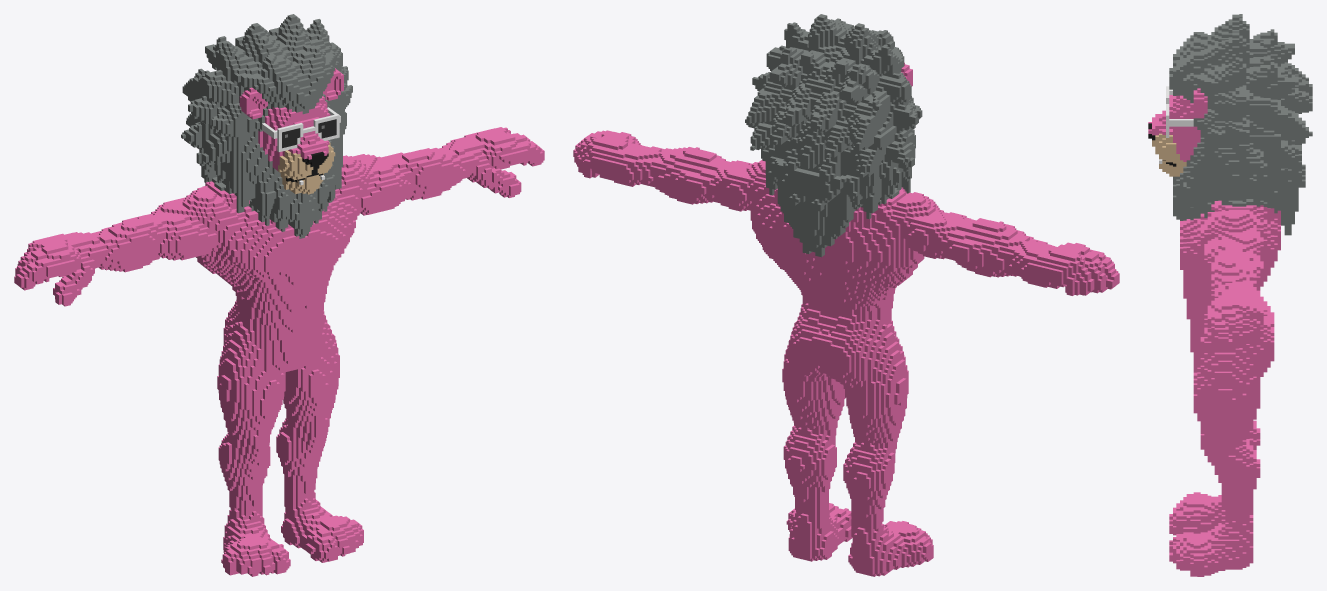
Rendered from 393-EqWMM-oM.glb.
3 renders of one model, left to right at view 1: azimuth 30°, elevation 25°; view 2: azimuth 150°, elevation 25°; view 3: azimuth 270°, elevation 25°, orthographic. The views are drawn at different scales.
Parts seen in each view (by area): view 1: standard; view 2: standard; view 3: standard.
Part boxes in pixels (x1,y1,x2,y2): standard: [14, 14, 544, 576]; standard: [573, 14, 1119, 576]; standard: [1148, 14, 1312, 576].
Bounding box in the file's own units: 17.2 × 16.5 × 4.7.
4 materials, 4 textured.
